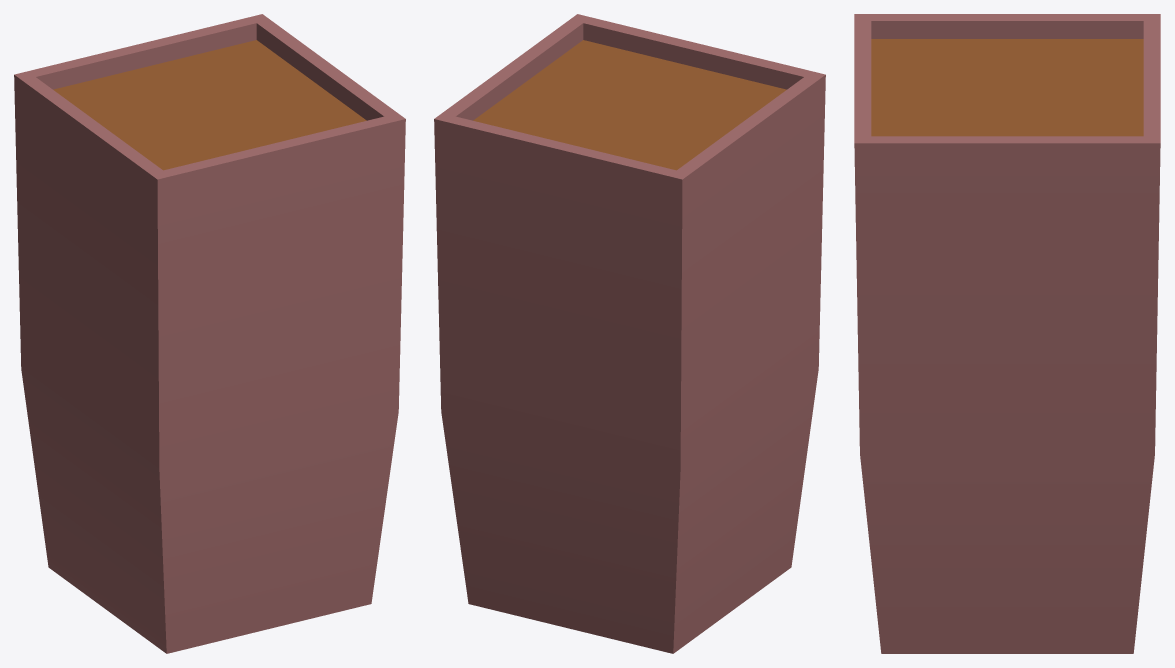
Rendered from FlowerPot.fbx.
3 views of the same model, side by side, from view 1: azimuth 30°, elevation 25°; view 2: azimuth 150°, elevation 25°; view 3: azimuth 270°, elevation 25° (orthographic). The views are drawn at different scales.
Visible parts, largest first — view 1: pCube107; view 2: pCube107; view 3: pCube107.
Part boxes in pixels (x1,y1,x2,y2): pCube107: [14, 14, 405, 653]; pCube107: [434, 14, 825, 653]; pCube107: [854, 14, 1160, 653].
Bounding box in the file's own units: 7.06 × 13.28 × 7.06.
